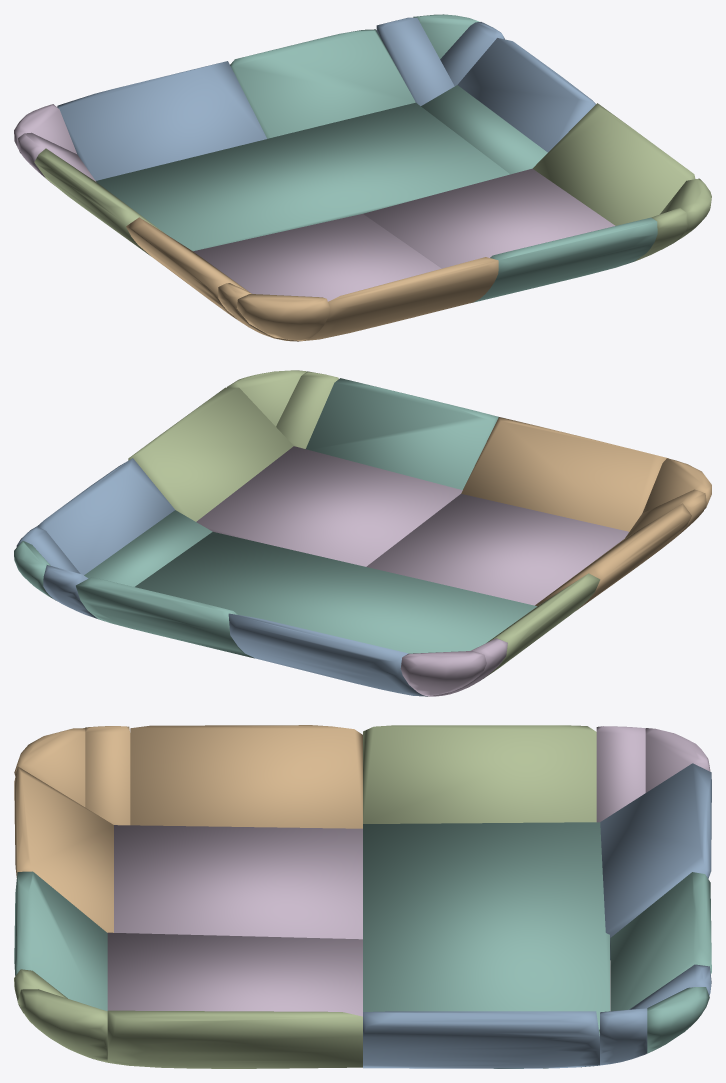
3 renders of one model, top to bottom at view 1: azimuth 30°, elevation 25°; view 2: azimuth 150°, elevation 25°; view 3: azimuth 270°, elevation 25°, orthographic. The views are drawn at different scales.
Size of the model in its own units: 1.52 by 0.2222 by 1.52.
